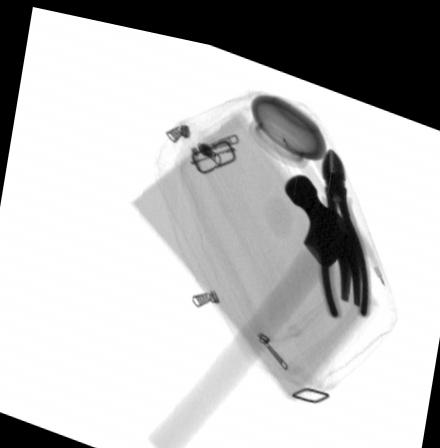Hammer: (147, 160, 361, 448)
Pliers: (318, 134, 371, 304)
